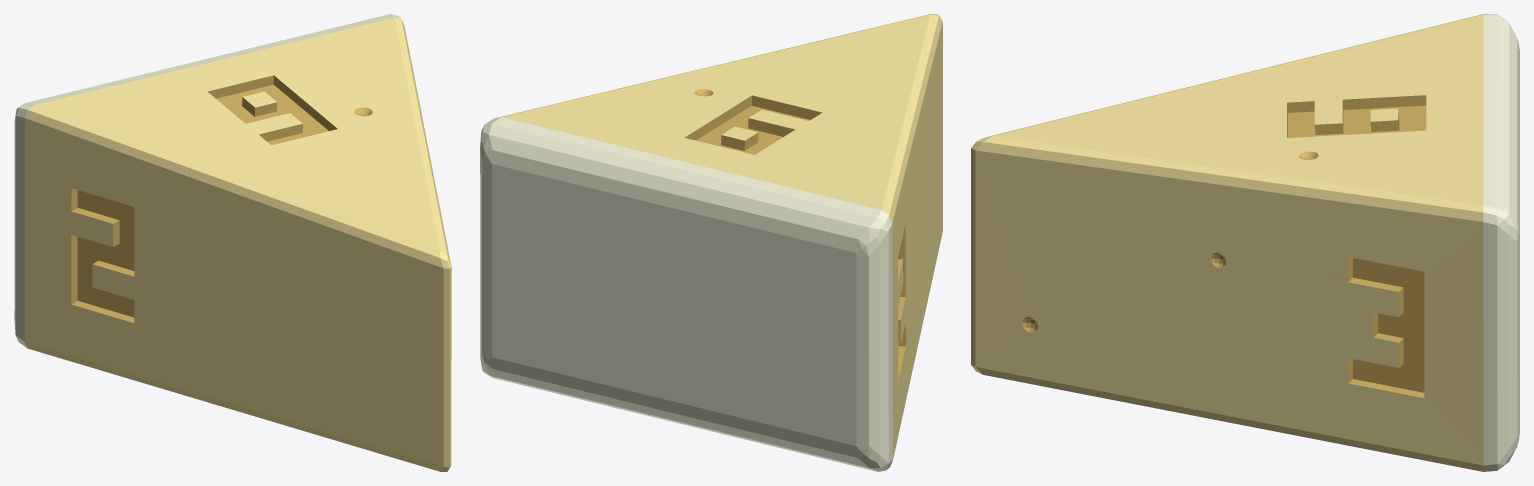
The model's file is Die_Brie_d4_Lucky9.fbx.
The picture shows the model from 3 angles, left to right: view 1: azimuth 30°, elevation 25°; view 2: azimuth 150°, elevation 25°; view 3: azimuth 270°, elevation 25°; orthographic projection. The views are drawn at different scales.
Parts seen in each view (by area): view 1: Die_Brie_d4_Lucky9; view 2: Die_Brie_d4_Lucky9; view 3: Die_Brie_d4_Lucky9.
Part boxes in pixels (<box>): Die_Brie_d4_Lucky9: <box>14,14,451,471</box>; Die_Brie_d4_Lucky9: <box>480,14,942,471</box>; Die_Brie_d4_Lucky9: <box>971,14,1519,471</box>.
Bounding box in the file's own units: 1.26 × 0.7664 × 1.43.
